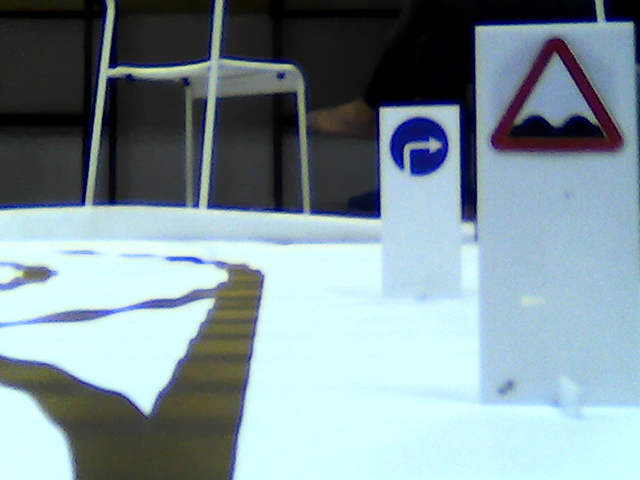Nerov: (487, 33, 627, 158)
Right: (390, 115, 446, 177)
